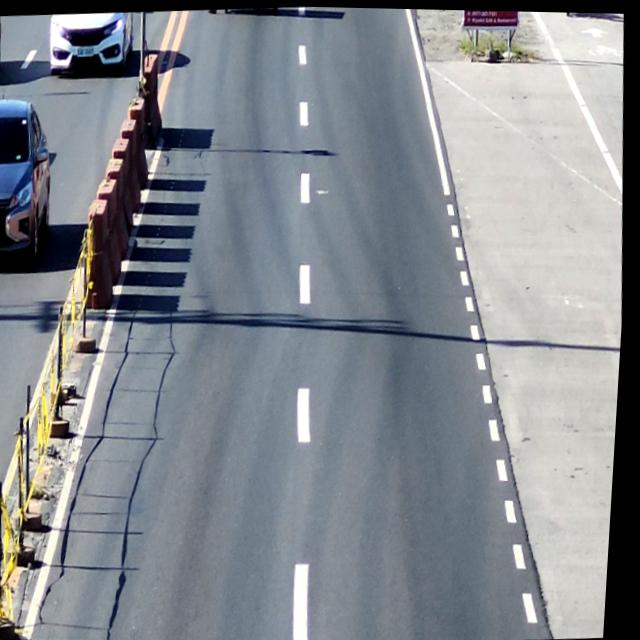Car: (0, 92, 66, 266), (43, 10, 144, 75)
License-Plate: (73, 45, 98, 57), (0, 218, 2, 237)
